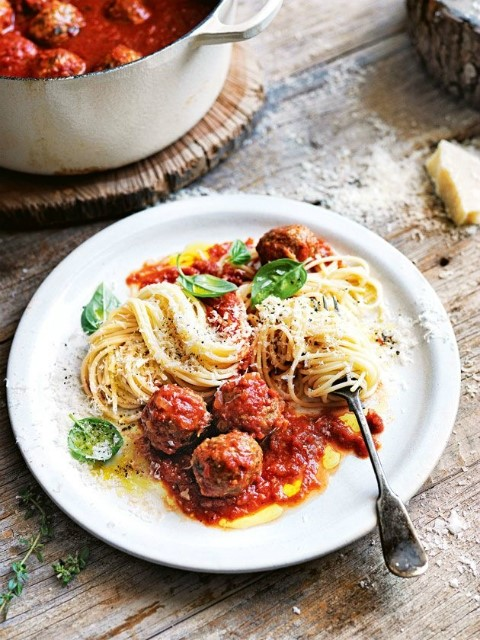meatballs: (156, 394, 273, 488)
plain spaghetti: (120, 299, 360, 379)
